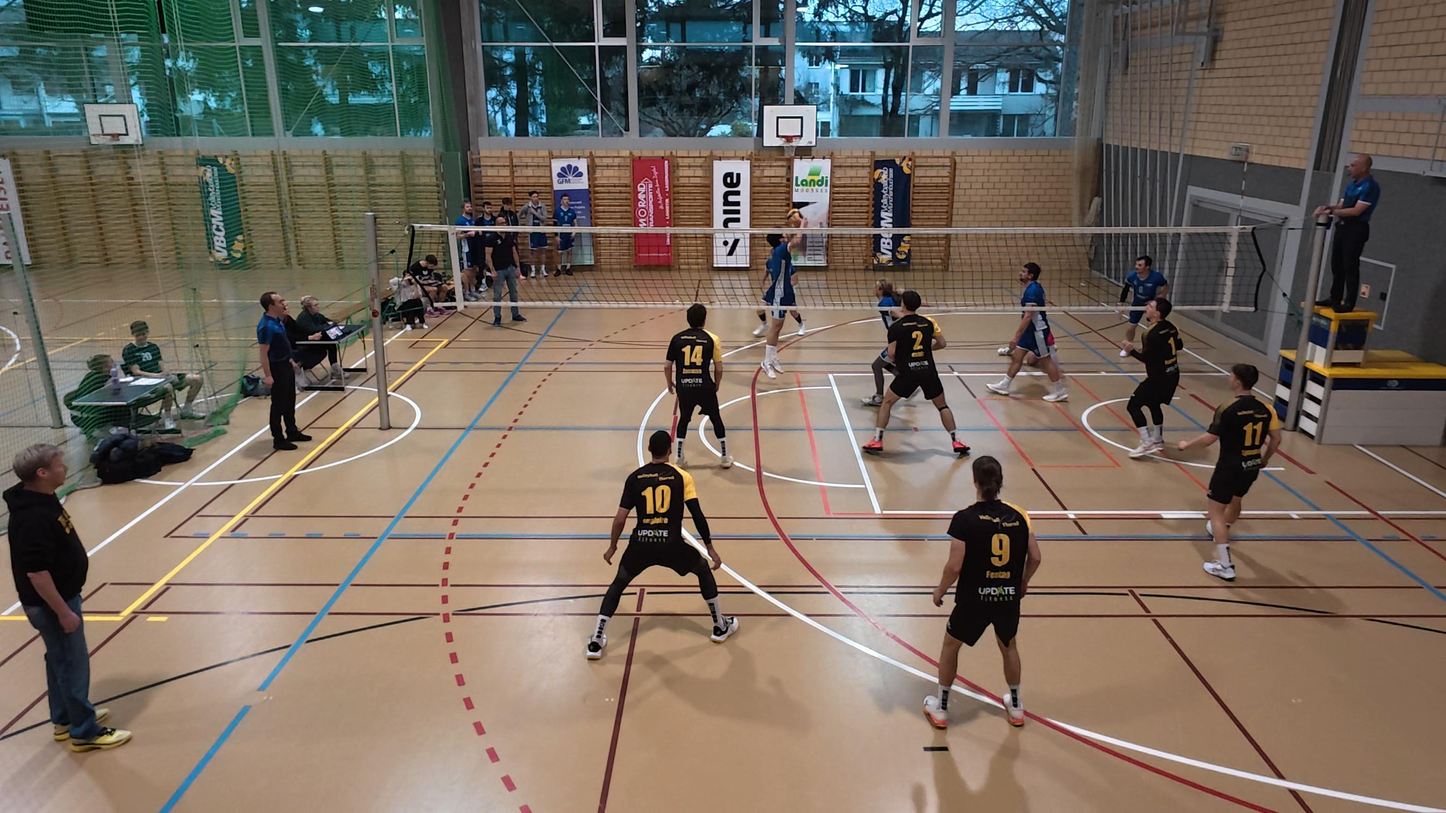Player: (586, 432, 738, 660), (925, 456, 1041, 729), (1176, 365, 1281, 580), (863, 290, 970, 457), (987, 262, 1068, 403), (665, 303, 729, 468), (1122, 296, 1183, 460), (860, 279, 904, 409), (1117, 255, 1170, 361)
Set: (754, 217, 804, 378)
ball: (787, 207, 803, 221)
